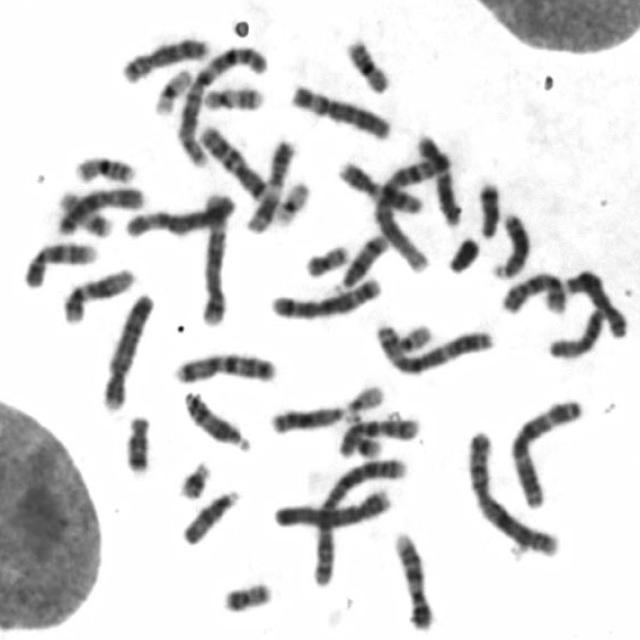A1: (175, 44, 269, 170), (373, 152, 452, 276)
A2: (310, 458, 409, 586), (468, 430, 561, 558)
A3: (509, 398, 582, 511), (374, 325, 495, 375)
B4: (99, 294, 158, 412), (273, 488, 393, 529)
B5: (268, 275, 381, 322), (201, 189, 231, 327)
C10: (338, 417, 421, 459), (498, 272, 567, 316)
C11: (242, 138, 298, 238), (336, 158, 425, 218)
C12: (416, 132, 463, 228), (61, 269, 138, 327)
C6: (291, 84, 393, 141), (123, 192, 238, 241)
C7: (196, 123, 269, 202), (174, 354, 277, 385)
C8: (564, 269, 630, 339), (120, 36, 210, 86)
C9: (393, 532, 435, 632), (23, 241, 100, 289)
D13: (492, 213, 532, 281), (272, 406, 348, 434)
D14: (182, 390, 254, 452), (332, 233, 389, 296)
D15: (180, 489, 240, 546), (548, 306, 607, 362)
E16: (347, 37, 392, 96), (74, 156, 136, 186)
E17: (56, 190, 114, 241), (202, 86, 266, 114)
E18: (123, 414, 153, 474), (478, 182, 501, 240)
F19: (151, 67, 193, 118), (272, 180, 311, 229)
F20: (221, 582, 276, 614), (303, 243, 349, 280)
G21: (178, 459, 213, 501), (353, 434, 383, 460)
G22: (347, 383, 384, 422), (396, 321, 434, 354)
X: (54, 186, 147, 239)
Y: (446, 236, 481, 275)
